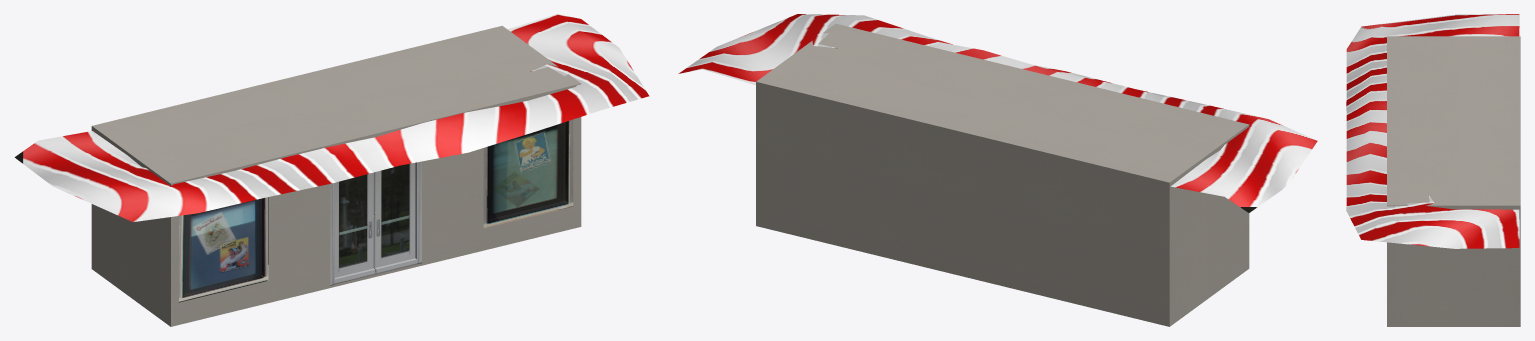
The model's file is whiteBrick_Down3x.fbx.
The picture shows the model from 3 angles, left to right: view 1: azimuth 30°, elevation 25°; view 2: azimuth 150°, elevation 25°; view 3: azimuth 270°, elevation 25°; orthographic projection. The views are drawn at different scales.
Parts seen in each view (by area): view 1: Cube.007; view 2: Cube.007; view 3: Cube.007.
Part boxes in pixels (left/top/right/bottom): Cube.007: left=14, top=14, right=649, bottom=326; Cube.007: left=678, top=14, right=1317, bottom=326; Cube.007: left=1346, top=14, right=1520, bottom=326.
Size of the model in its own units: 828 by 201 by 260.
